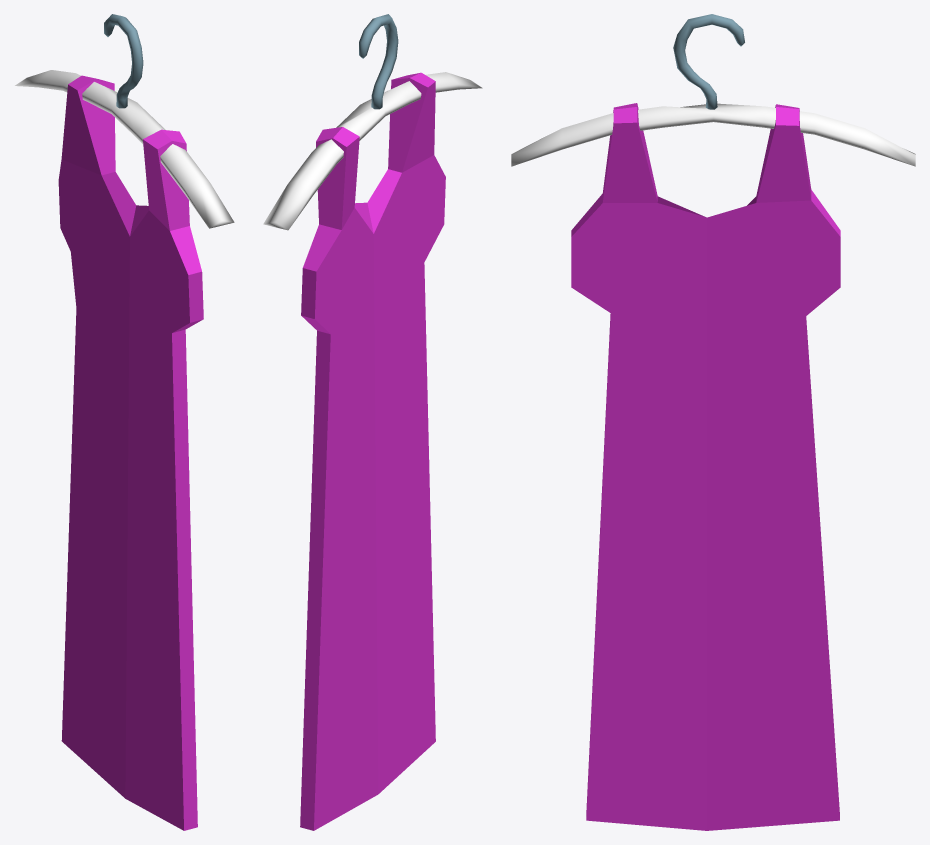
The model's file is dress3.fbx.
The picture shows the model from 3 angles, left to right: view 1: azimuth 30°, elevation 25°; view 2: azimuth 150°, elevation 25°; view 3: azimuth 270°, elevation 25°; orthographic projection. The views are drawn at different scales.
Visible parts, largest first — view 1: Cylinder.002, Cube.021; view 2: Cylinder.002, Cube.021; view 3: Cylinder.002, Cube.021.
Boxes of the visible parts, x1=… form: Cylinder.002: x1=58, y1=75, x2=203, y2=830; Cube.021: x1=15, y1=14, x2=234, y2=228; Cylinder.002: x1=300, y1=72, x2=445, y2=830; Cube.021: x1=263, y1=14, x2=482, y2=230; Cylinder.002: x1=571, y1=103, x2=840, y2=830; Cube.021: x1=511, y1=14, x2=915, y2=166.
Bounding box in the file's own units: 20.66 × 399 × 181.
